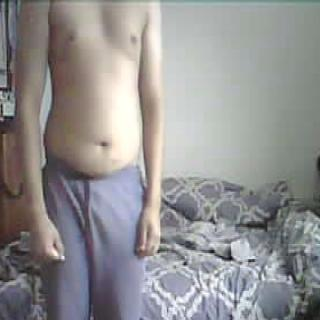Blue Sweatpants: (33, 146, 159, 320)
